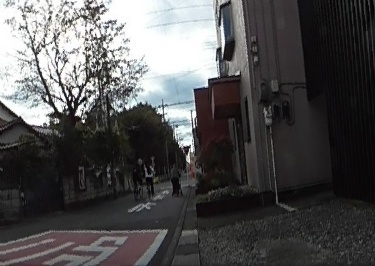person: (129, 158, 142, 194), (168, 161, 182, 194), (144, 159, 156, 197)
